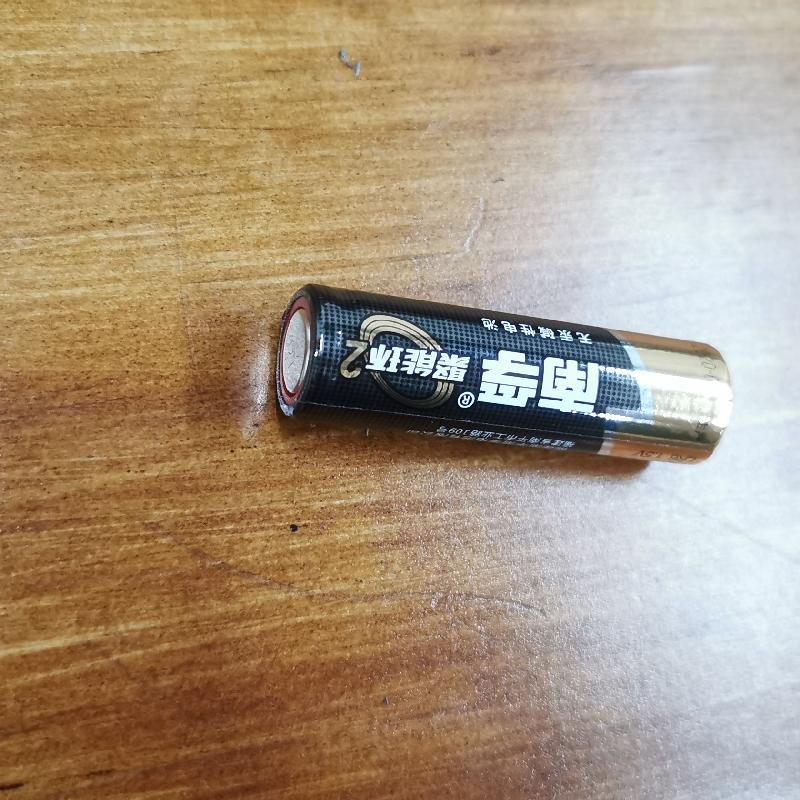battery: (250, 277, 736, 475)
